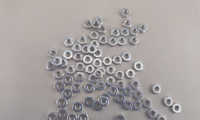nut: (73, 101, 84, 113), (84, 97, 95, 108), (58, 109, 68, 120), (63, 88, 73, 99), (63, 75, 74, 85), (94, 101, 104, 112), (53, 70, 64, 80), (65, 65, 76, 75), (47, 61, 57, 72), (52, 57, 63, 67), (75, 72, 85, 83), (99, 97, 110, 107), (124, 100, 134, 111), (115, 94, 125, 105), (116, 80, 127, 90), (133, 100, 143, 111), (143, 98, 153, 109), (171, 104, 182, 114), (75, 63, 86, 73), (55, 82, 65, 92), (72, 83, 82, 93), (85, 83, 95, 93), (96, 81, 106, 91), (109, 86, 119, 96), (148, 109, 158, 119), (152, 85, 162, 95), (164, 97, 174, 107), (134, 62, 144, 72), (122, 52, 132, 62), (138, 23, 148, 33), (93, 58, 103, 68), (89, 74, 99, 84), (121, 8, 131, 18), (113, 55, 123, 65), (64, 38, 74, 48), (63, 50, 73, 60), (74, 52, 84, 62), (78, 35, 88, 45), (99, 35, 109, 45), (57, 99, 68, 108), (92, 49, 103, 58), (89, 31, 100, 40), (49, 49, 59, 58), (101, 93, 111, 102), (103, 57, 113, 66), (134, 91, 144, 100), (131, 81, 141, 90), (126, 70, 136, 79), (115, 71, 125, 80), (106, 77, 116, 86), (106, 66, 116, 75), (94, 70, 104, 79), (109, 37, 118, 47), (83, 55, 93, 64), (85, 65, 95, 74), (87, 45, 97, 54), (72, 43, 82, 52), (84, 20, 94, 29), (47, 112, 58, 120), (130, 36, 139, 45), (118, 37, 127, 46), (121, 28, 130, 37), (131, 27, 140, 36), (123, 19, 132, 28), (111, 28, 120, 37), (92, 20, 101, 29), (95, 17, 104, 26), (90, 40, 100, 48), (97, 25, 107, 33), (98, 67, 106, 76), (79, 113, 89, 120), (61, 58, 68, 68), (67, 114, 78, 120), (83, 45, 90, 54), (116, 115, 126, 120), (157, 116, 167, 120)
